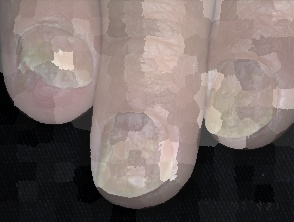Nail_psoriasis: (94, 107, 178, 201), (7, 18, 105, 98), (201, 55, 283, 145)
